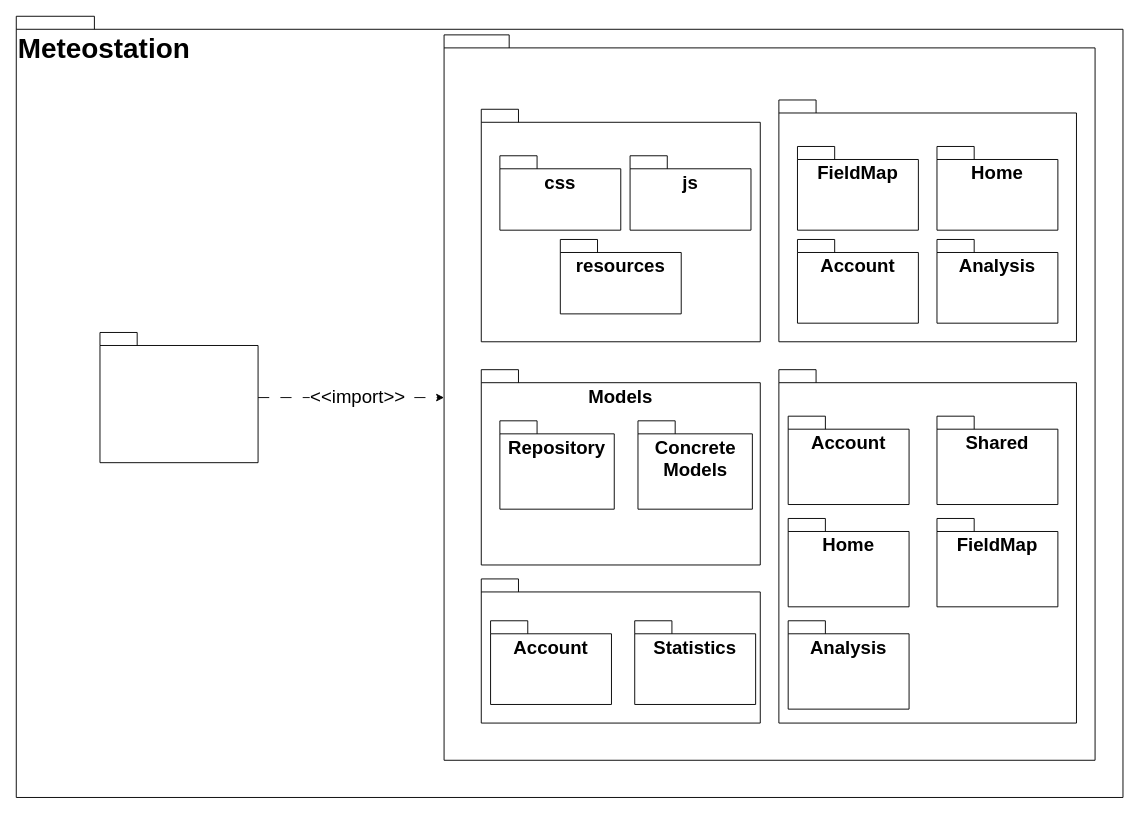
Some shapes in this 1139 by 814 pixel diagram are drawn without their labels. The box of each missing label's shape, as (x1, y1, x2, y2) in pixels:
Controllers: (778, 99, 1076, 342)
Infrastructure: (480, 578, 760, 723)
Test: (99, 332, 258, 463)
Views: (778, 369, 1076, 723)
WebServer: (443, 34, 1095, 760)
wwwroot: (480, 108, 760, 342)
